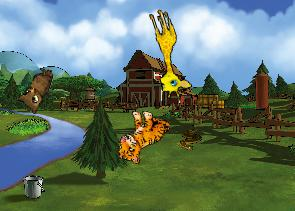giraffe: (137, 6, 194, 101)
owl: (14, 62, 54, 115)
tiger: (114, 105, 172, 169)
